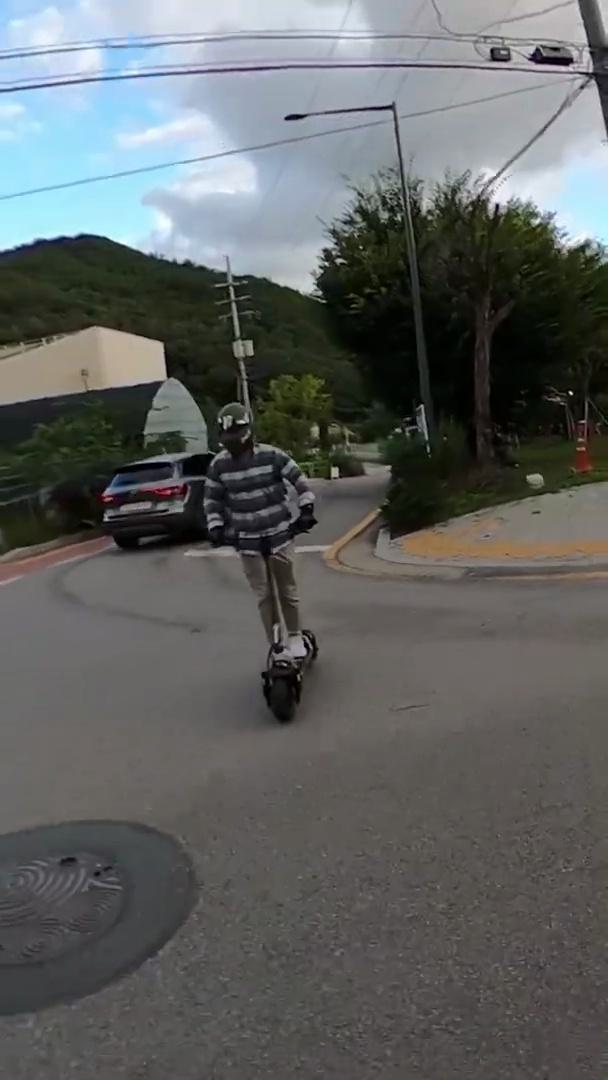helmet: (199, 398, 324, 724)
